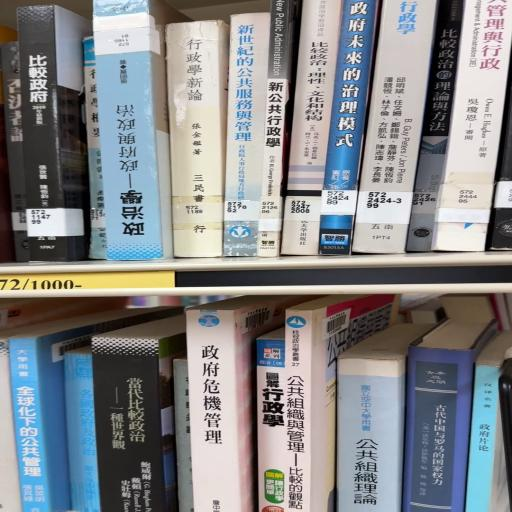reverse: (94, 1, 192, 261)
